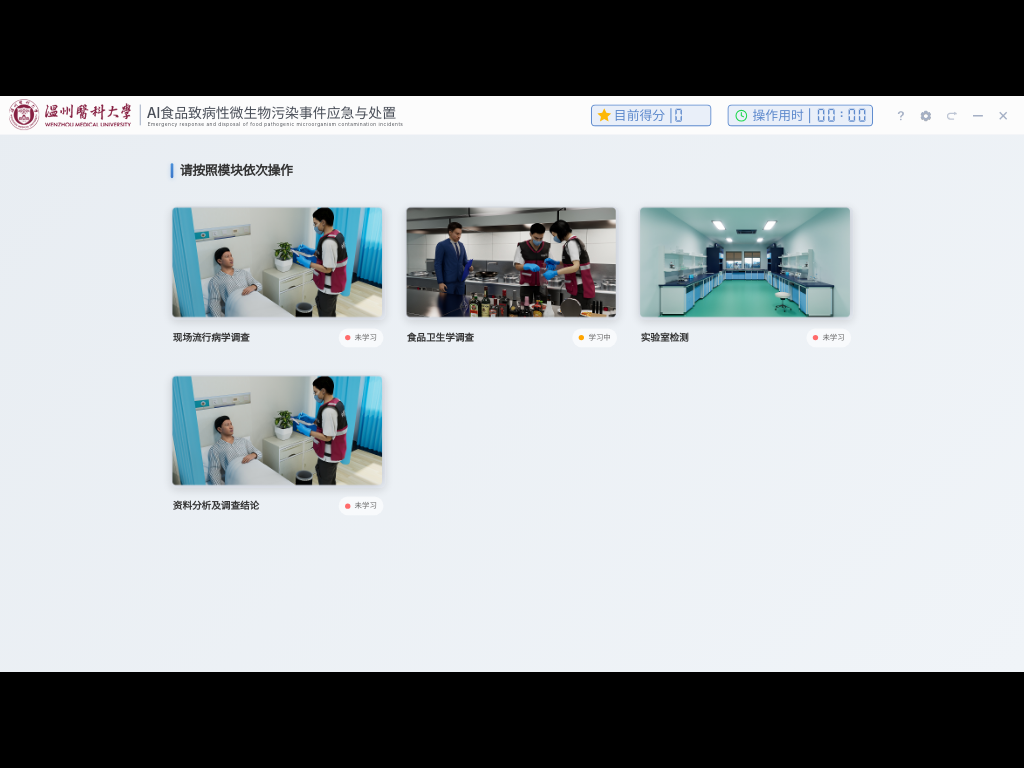
Scenario: CaseStudyPage › opens the resume prompt when the module has a checkpoint
This screenshot has width=1024, height=768.
Click the heading "食品卫生学调查": (440, 338) [407,330,474,346]
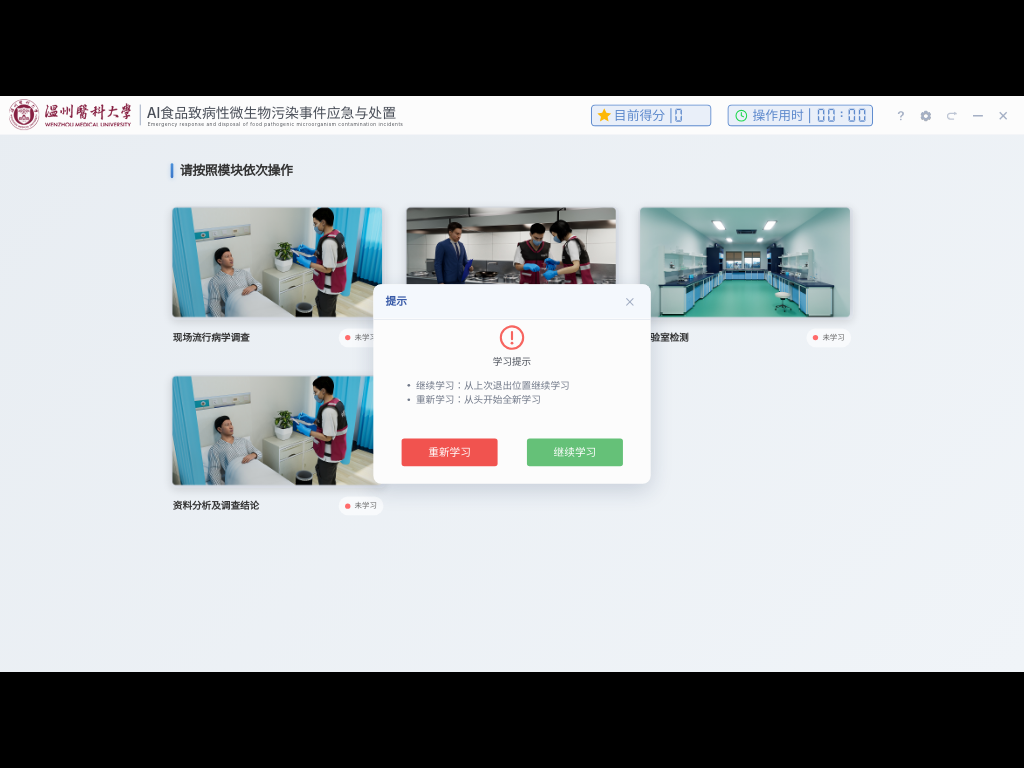
Check: the heading "学习提示" is shown, box [493,356,531,368]
Check: the button "继续学习" is shown, box [527,438,623,466]
Check: the button "重新学习" is shown, box [402,438,498,466]
